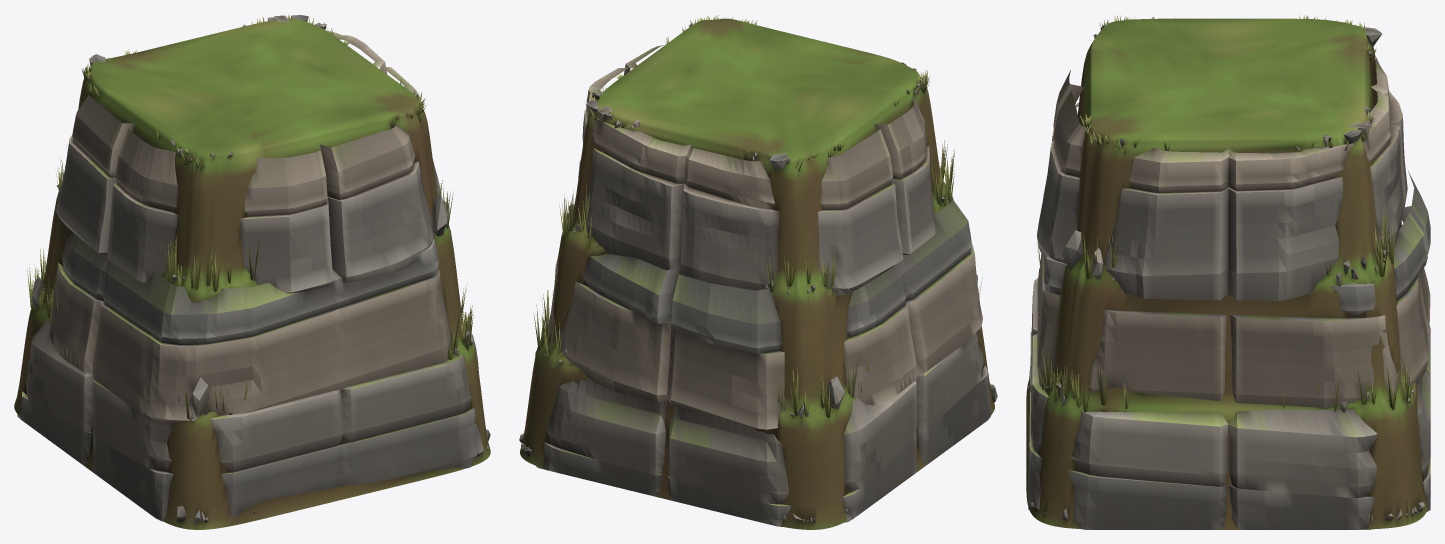
File: hill-rect.glb
The picture shows the model from 3 angles, left to right: view 1: azimuth 30°, elevation 25°; view 2: azimuth 150°, elevation 25°; view 3: azimuth 270°, elevation 25°; orthographic projection. The views are drawn at different scales.
Parts seen in each view (by area): view 1: hill-rect; view 2: hill-rect; view 3: hill-rect.
Boxes of the visible parts, x1=… form: hill-rect: x1=14, y1=14, x2=490, y2=529; hill-rect: x1=519, y1=15, x2=997, y2=529; hill-rect: x1=1026, y1=15, x2=1430, y2=529.
Bounding box in the file's own units: 1 × 1 × 1.
